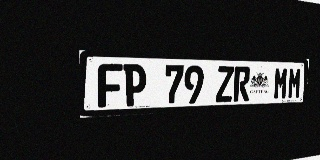7: (163, 65, 184, 105)
9: (184, 65, 204, 104)
F: (98, 63, 123, 108)
M: (273, 67, 288, 100), (287, 67, 302, 99)
P: (123, 64, 146, 107)
R: (233, 66, 250, 102)
Z: (216, 66, 234, 102)
